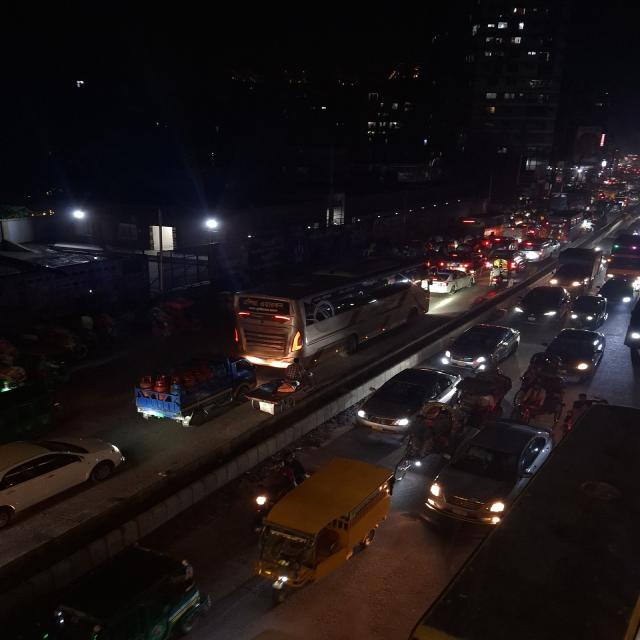bus: (228, 246, 433, 371)
car: (421, 418, 553, 530), (0, 430, 132, 528), (356, 364, 458, 432), (438, 321, 528, 375), (538, 324, 609, 378), (509, 283, 571, 326), (430, 269, 473, 295)
cng: (0, 546, 217, 640), (569, 290, 611, 328)
motorcycle: (488, 264, 504, 290)
pickup_van: (130, 349, 261, 426)
rickshaw: (255, 471, 397, 606)
truck: (551, 249, 598, 293), (606, 237, 640, 286)
